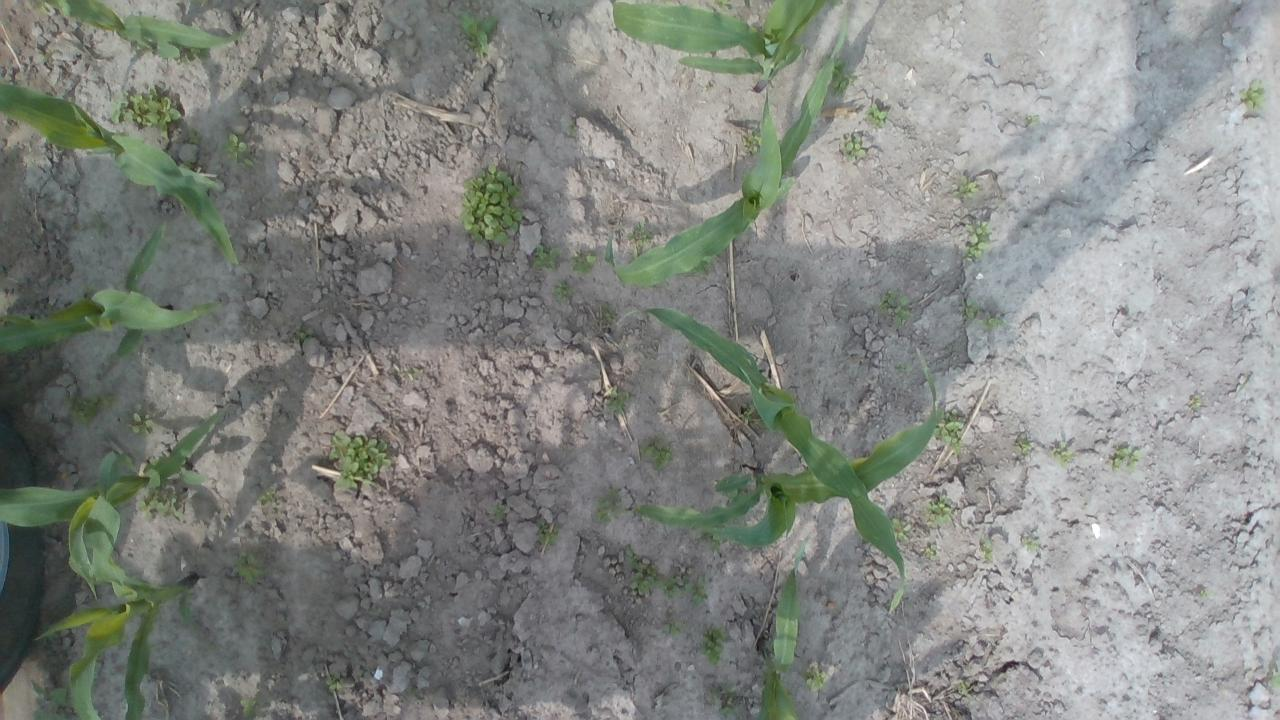Maize: (634, 301, 912, 612), (604, 16, 850, 286), (639, 346, 942, 552), (0, 78, 241, 264), (32, 497, 198, 720), (0, 218, 213, 356), (0, 402, 226, 530), (607, 0, 839, 90), (48, 0, 242, 58), (754, 541, 804, 720)
Weeds: (459, 164, 524, 244), (329, 430, 390, 490), (108, 86, 182, 134), (457, 11, 497, 60), (64, 391, 114, 427), (931, 408, 967, 456), (136, 488, 184, 521), (31, 684, 71, 720), (708, 682, 745, 720), (879, 287, 912, 328), (960, 218, 991, 260), (236, 550, 272, 586), (640, 434, 674, 472), (222, 132, 256, 169), (698, 627, 732, 663), (828, 57, 858, 97), (592, 488, 624, 524), (527, 242, 561, 272), (601, 384, 633, 413), (628, 562, 656, 594), (1238, 78, 1264, 110), (686, 574, 710, 608), (928, 494, 951, 527), (656, 574, 683, 602), (1112, 446, 1142, 471), (626, 223, 656, 248), (568, 250, 598, 274), (840, 134, 866, 160), (951, 176, 978, 200), (686, 254, 716, 275), (804, 664, 828, 690), (536, 521, 562, 545), (128, 412, 156, 434), (742, 403, 766, 428), (177, 44, 210, 62), (864, 104, 888, 128), (890, 516, 911, 543), (550, 278, 570, 306), (740, 131, 762, 154), (1053, 440, 1072, 464), (91, 216, 111, 238), (662, 618, 682, 640), (237, 697, 256, 720), (622, 544, 638, 568), (326, 672, 346, 691), (960, 298, 976, 318), (1266, 670, 1280, 692), (922, 543, 939, 561), (601, 303, 618, 321), (1021, 536, 1040, 552), (978, 541, 993, 561), (292, 324, 308, 342), (1014, 438, 1032, 454), (980, 317, 1006, 328), (187, 127, 203, 143), (710, 536, 723, 552), (895, 361, 912, 373), (495, 504, 506, 522), (260, 490, 276, 501), (1024, 115, 1040, 125), (713, 0, 729, 8), (1191, 396, 1201, 407), (959, 683, 968, 694), (567, 121, 576, 132), (1200, 590, 1208, 598)
